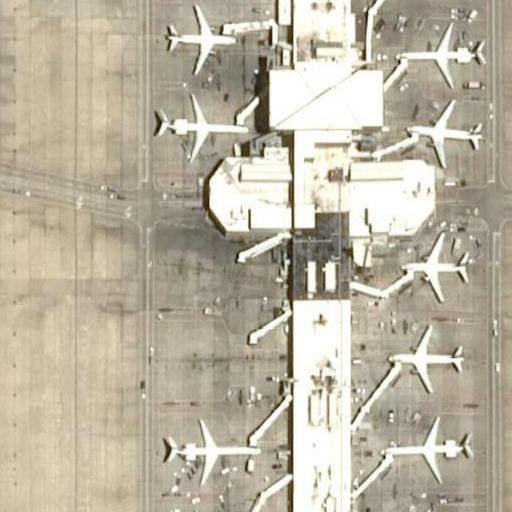Aircraft: (375, 414, 472, 479), (161, 416, 259, 480), (397, 96, 487, 165), (393, 19, 483, 84), (395, 223, 470, 301), (161, 93, 248, 160), (379, 324, 468, 387), (160, 2, 234, 73), (369, 507, 461, 512), (158, 509, 254, 512)
